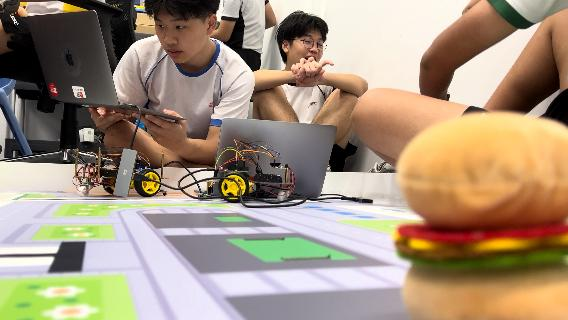burger: (393, 110, 568, 315)
